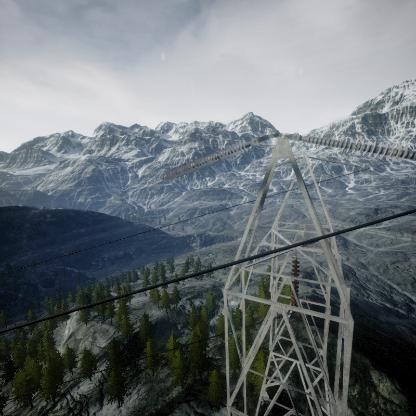insulator: (160, 127, 269, 183), (281, 127, 416, 168)
